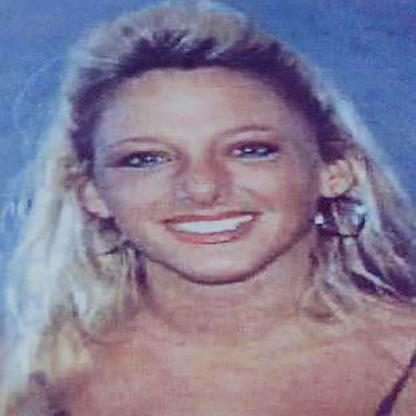face: (90, 34, 324, 288)
